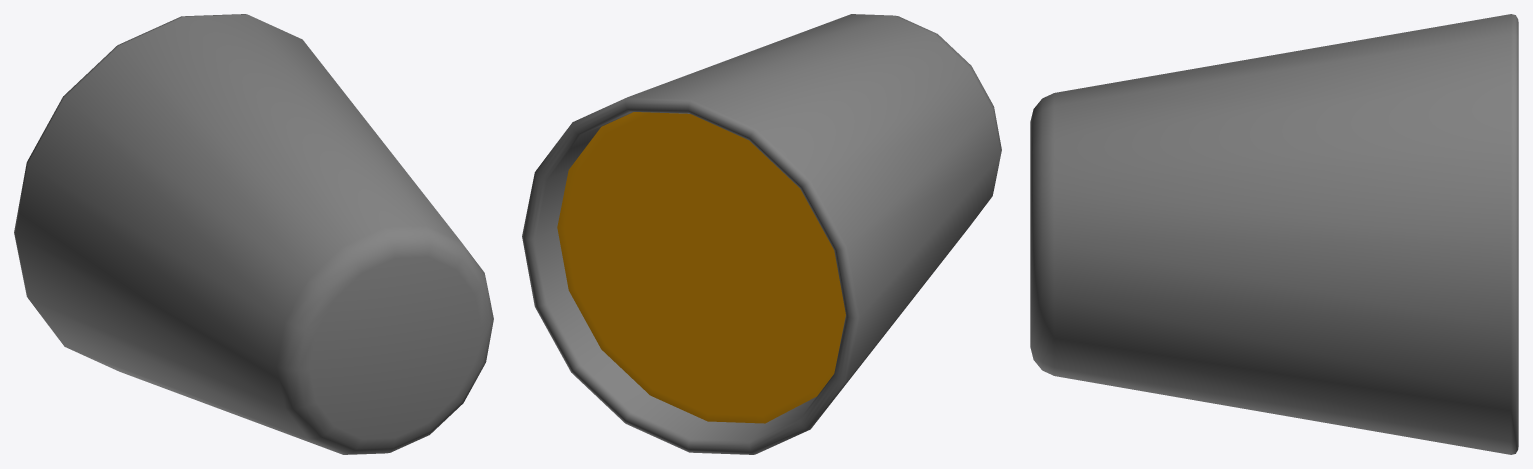
Rendered from LiquidoExp.glb.
3 renders of one model, left to right at view 1: azimuth 30°, elevation 25°; view 2: azimuth 150°, elevation 25°; view 3: azimuth 270°, elevation 25°, orthographic. The views are drawn at different scales.
Visible parts, largest first — view 1: Cylinder.005; view 2: Cylinder.005, Cylinder.004; view 3: Cylinder.005.
Part boxes in pixels (x1,y1,x2,y2): Cylinder.005: (14, 14, 493, 454); Cylinder.005: (522, 14, 1001, 454); Cylinder.004: (557, 112, 845, 423); Cylinder.005: (1030, 14, 1518, 454).
Size of the model in its own units: 0.1598 by 0.1598 by 0.1768.
